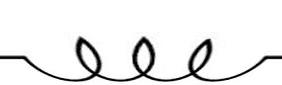inductor: (0, 35, 275, 84)
